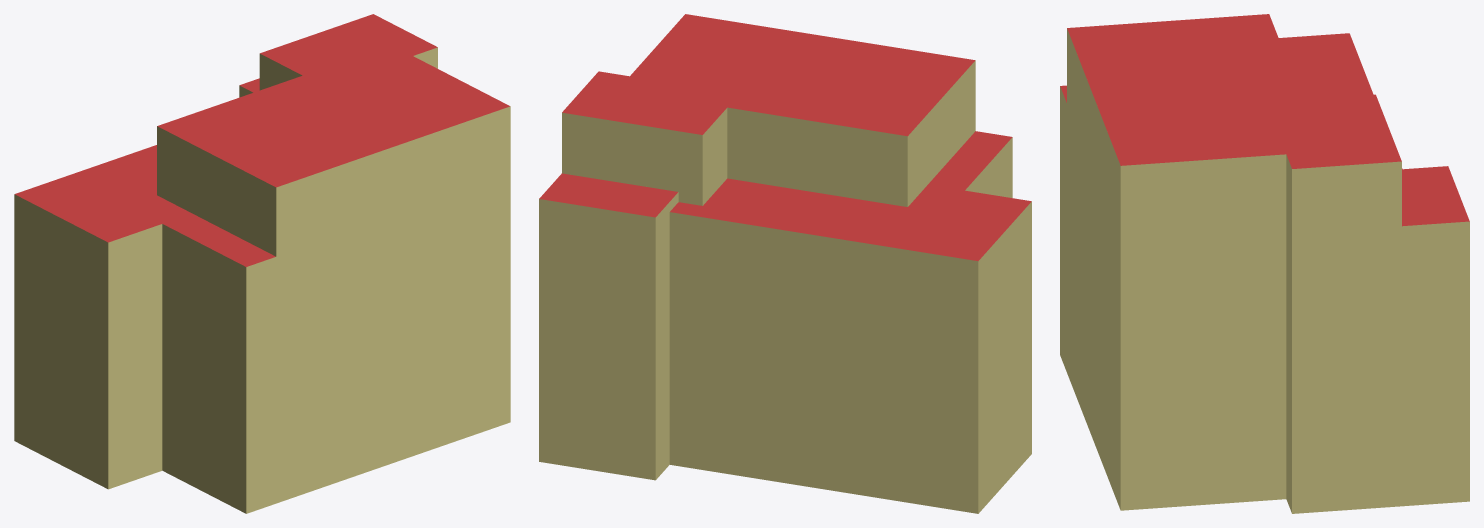
The picture shows the model from 3 angles, left to right: view 1: azimuth 30°, elevation 25°; view 2: azimuth 150°, elevation 25°; view 3: azimuth 270°, elevation 25°; orthographic projection. The views are drawn at different scales.
Parts seen in each view (by area): view 1: group_7, group_10, group_9, group_6; view 2: group_7, group_4, group_9, group_10, group_6, group_3; view 3: group_10, group_4, group_9, group_7, group_6, group_3.
Part boxes in pixels (left/top/right/bottom): group_7: left=14, top=190, right=469, bottom=513; group_10: left=157, top=47, right=510, bottom=436; group_9: left=157, top=14, right=509, bottom=187; group_6: left=15, top=145, right=275, bottom=266; group_7: left=669, top=137, right=1031, bottom=513; group_4: left=539, top=192, right=678, bottom=480; group_9: left=562, top=14, right=975, bottom=136; group_10: left=562, top=60, right=975, bottom=206; group_6: left=670, top=131, right=1031, bottom=261; group_3: left=539, top=173, right=677, bottom=217; group_10: left=1067, top=28, right=1401, bottom=510; group_4: left=1286, top=219, right=1469, bottom=513; group_9: left=1067, top=14, right=1401, bottom=168; group_7: left=1060, top=86, right=1111, bottom=485; group_6: left=1060, top=33, right=1402, bottom=169; group_3: left=1402, top=166, right=1469, bottom=226.
Bounding box in the file's own units: 14.96 × 12.24 × 11.37.
